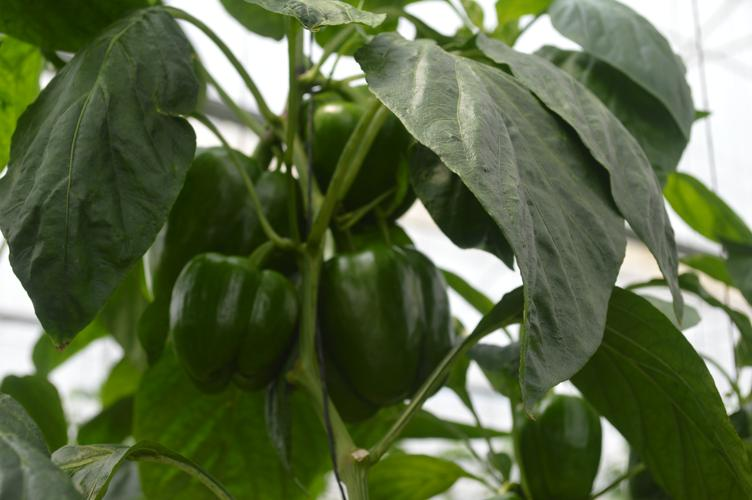BellPepper: (323, 244, 457, 413), (151, 147, 298, 287), (176, 253, 299, 391), (306, 90, 410, 210), (507, 394, 602, 497)
